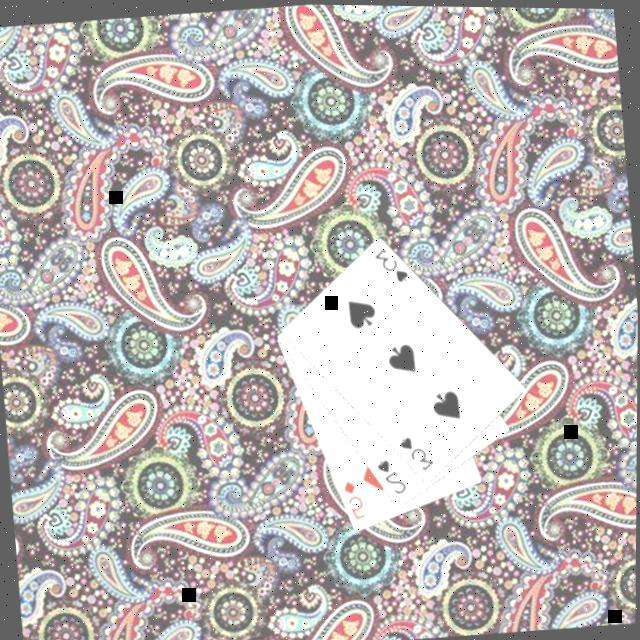2S: (374, 455, 411, 499)
3S: (371, 243, 413, 288), (396, 432, 438, 476)
5D: (340, 476, 370, 524)
